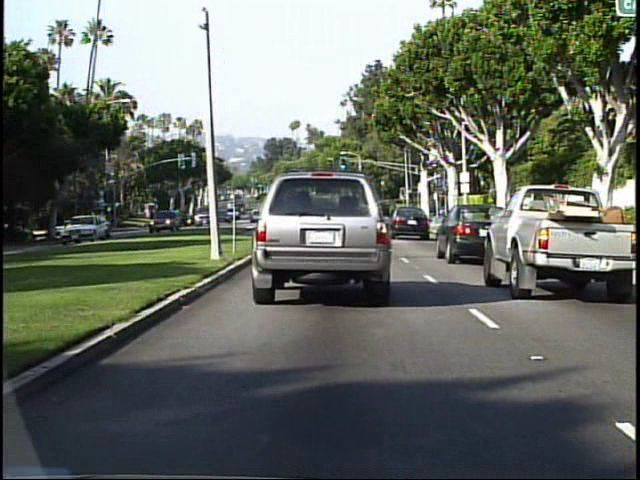person: (69, 212, 83, 236)
